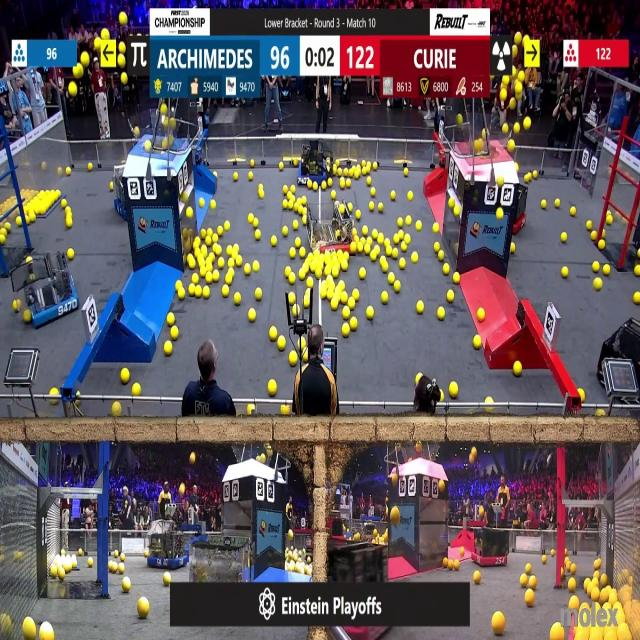ball_airborne: (389, 508, 399, 525), (73, 65, 83, 80), (80, 54, 88, 68), (69, 84, 77, 98), (116, 56, 124, 69), (516, 84, 523, 98), (474, 140, 482, 152), (118, 12, 126, 24), (162, 138, 170, 150), (101, 29, 109, 40), (507, 140, 514, 152), (524, 116, 531, 128), (516, 32, 523, 44), (497, 176, 504, 187), (120, 72, 126, 84), (440, 481, 446, 493), (144, 141, 151, 151), (515, 124, 522, 134), (118, 42, 124, 53), (511, 99, 517, 110), (457, 113, 463, 124), (180, 484, 186, 495), (513, 45, 519, 56), (189, 453, 195, 464), (502, 125, 508, 135), (519, 71, 525, 81), (502, 75, 508, 85), (500, 91, 506, 101), (524, 35, 530, 45), (96, 38, 101, 49), (162, 105, 168, 114), (482, 130, 488, 139), (262, 453, 268, 462), (470, 448, 475, 458), (164, 117, 170, 125), (134, 129, 140, 137), (513, 67, 518, 76), (170, 118, 175, 126), (516, 164, 520, 172)
ball_ground: (492, 614, 505, 636), (24, 619, 37, 640), (40, 624, 53, 640), (139, 598, 149, 618), (552, 625, 564, 640), (514, 360, 523, 376), (525, 590, 534, 606), (450, 383, 459, 398), (269, 381, 278, 396), (112, 404, 121, 418), (569, 596, 578, 610), (120, 367, 128, 382), (165, 342, 173, 357), (567, 580, 576, 593), (122, 579, 130, 593), (171, 326, 179, 339), (289, 352, 297, 365), (278, 338, 286, 351), (472, 570, 480, 583), (270, 326, 278, 339), (24, 311, 32, 324), (591, 589, 599, 602), (281, 407, 290, 418), (248, 310, 256, 322), (472, 338, 480, 350), (330, 300, 338, 312), (133, 384, 141, 396), (478, 309, 486, 321), (187, 259, 195, 271), (417, 302, 424, 315), (343, 323, 350, 336), (165, 572, 172, 585), (168, 313, 175, 326), (350, 318, 357, 331), (225, 272, 232, 285), (600, 574, 608, 585), (235, 292, 242, 304), (203, 286, 210, 298), (68, 248, 75, 260), (595, 278, 602, 290), (254, 288, 261, 300), (439, 308, 446, 320), (194, 285, 201, 297), (178, 288, 185, 300), (444, 265, 451, 277), (453, 273, 460, 285), (218, 256, 225, 268), (521, 574, 528, 586), (529, 575, 536, 587), (214, 245, 222, 255), (212, 272, 220, 282), (325, 288, 333, 298), (298, 338, 304, 351), (603, 266, 610, 277), (66, 217, 73, 228), (388, 274, 395, 285), (343, 308, 350, 319), (206, 273, 213, 284), (288, 274, 295, 285), (331, 268, 338, 279), (316, 268, 323, 279), (284, 268, 291, 279), (448, 290, 454, 302), (366, 308, 372, 320), (634, 291, 640, 303), (288, 292, 294, 304), (222, 285, 228, 297), (382, 291, 388, 303), (394, 281, 400, 293), (305, 296, 311, 308), (353, 288, 359, 300), (578, 389, 584, 401), (291, 306, 297, 318), (342, 292, 348, 304), (244, 266, 251, 276), (598, 240, 605, 250), (191, 274, 198, 284), (225, 246, 232, 256), (298, 270, 305, 280), (252, 263, 259, 273), (362, 244, 369, 254), (339, 280, 346, 290), (539, 200, 546, 210), (188, 285, 195, 295), (605, 214, 612, 224), (525, 564, 532, 574), (406, 235, 413, 245), (594, 263, 600, 274), (413, 252, 419, 263), (320, 288, 326, 299), (236, 256, 242, 267), (382, 263, 388, 274), (227, 257, 233, 268), (340, 181, 346, 192), (13, 301, 19, 312), (379, 233, 385, 244), (60, 568, 66, 579), (52, 567, 58, 578), (591, 233, 598, 242), (369, 252, 376, 261), (406, 216, 413, 225), (349, 301, 356, 310), (453, 561, 460, 570), (594, 560, 601, 569), (524, 174, 531, 183), (200, 269, 207, 278), (52, 385, 59, 394), (561, 234, 567, 244), (358, 269, 364, 279), (298, 248, 304, 258), (416, 220, 422, 230), (290, 248, 296, 258), (272, 237, 278, 247), (562, 268, 568, 278), (254, 232, 260, 242), (432, 222, 438, 232), (186, 208, 192, 218), (588, 220, 594, 230), (362, 226, 368, 236), (392, 248, 398, 258), (118, 564, 124, 574), (282, 226, 288, 236), (398, 261, 404, 271), (308, 278, 314, 288), (294, 238, 300, 248), (15, 216, 21, 226), (397, 217, 403, 227), (393, 235, 399, 245), (400, 242, 406, 252), (439, 251, 445, 261), (454, 207, 460, 217), (28, 214, 34, 224), (570, 564, 576, 574), (355, 170, 361, 180), (108, 562, 114, 572), (253, 218, 259, 228), (310, 265, 316, 275), (486, 396, 493, 404), (208, 254, 215, 262), (597, 411, 604, 419), (206, 266, 213, 274), (635, 267, 640, 278), (247, 407, 252, 418), (512, 243, 517, 254), (351, 243, 356, 254), (72, 559, 77, 570), (324, 267, 329, 278), (258, 189, 264, 198), (390, 190, 396, 199), (223, 221, 229, 230), (283, 185, 289, 194), (342, 263, 348, 272), (369, 187, 375, 196), (0, 236, 6, 245), (292, 220, 298, 229), (217, 226, 223, 235), (381, 254, 387, 263), (303, 216, 309, 225), (398, 234, 404, 243), (348, 203, 354, 212), (346, 179, 352, 188), (296, 206, 302, 215), (193, 238, 199, 247), (365, 237, 371, 246), (308, 180, 314, 189), (206, 237, 212, 246), (193, 247, 199, 256), (361, 167, 367, 176), (356, 210, 361, 220), (409, 190, 414, 200), (434, 242, 439, 252), (283, 200, 288, 210), (234, 244, 239, 254), (202, 246, 207, 256), (302, 208, 309, 215), (570, 208, 576, 216), (66, 168, 72, 176), (108, 182, 114, 190), (62, 201, 68, 209), (0, 226, 6, 234), (198, 259, 204, 267), (541, 556, 547, 564), (532, 172, 538, 180), (338, 169, 344, 177), (556, 200, 561, 209), (211, 201, 216, 210), (368, 203, 373, 212), (176, 280, 181, 289), (330, 190, 335, 199), (371, 231, 376, 240), (444, 558, 449, 567), (290, 184, 295, 193), (460, 548, 465, 557), (385, 238, 390, 247), (304, 353, 309, 362), (27, 256, 33, 263), (303, 198, 309, 205), (66, 208, 72, 215), (248, 172, 253, 180), (200, 200, 205, 208), (387, 248, 392, 256), (327, 178, 331, 188), (379, 204, 384, 212), (313, 182, 318, 190), (248, 214, 253, 222), (449, 200, 454, 208), (279, 164, 284, 172), (344, 169, 349, 177), (56, 188, 61, 196), (344, 252, 349, 260), (322, 181, 326, 190), (306, 288, 312, 294), (594, 571, 600, 577), (119, 555, 124, 562), (207, 227, 212, 234), (258, 183, 263, 190), (78, 550, 83, 557), (403, 169, 407, 177), (90, 559, 94, 567), (234, 173, 238, 181), (366, 177, 370, 185), (293, 159, 297, 167), (352, 227, 356, 235), (202, 230, 206, 238), (372, 161, 376, 169), (114, 552, 118, 560), (564, 550, 568, 558), (90, 165, 94, 172), (602, 233, 606, 240), (250, 161, 254, 168), (552, 551, 556, 558), (560, 568, 564, 575), (442, 393, 446, 400)
goal: (128, 115, 186, 153)
robot_blue: (24, 254, 80, 326), (148, 529, 192, 571), (299, 139, 334, 183)
robot_red: (318, 536, 392, 638), (597, 324, 640, 404), (311, 206, 354, 253), (475, 528, 511, 568)
